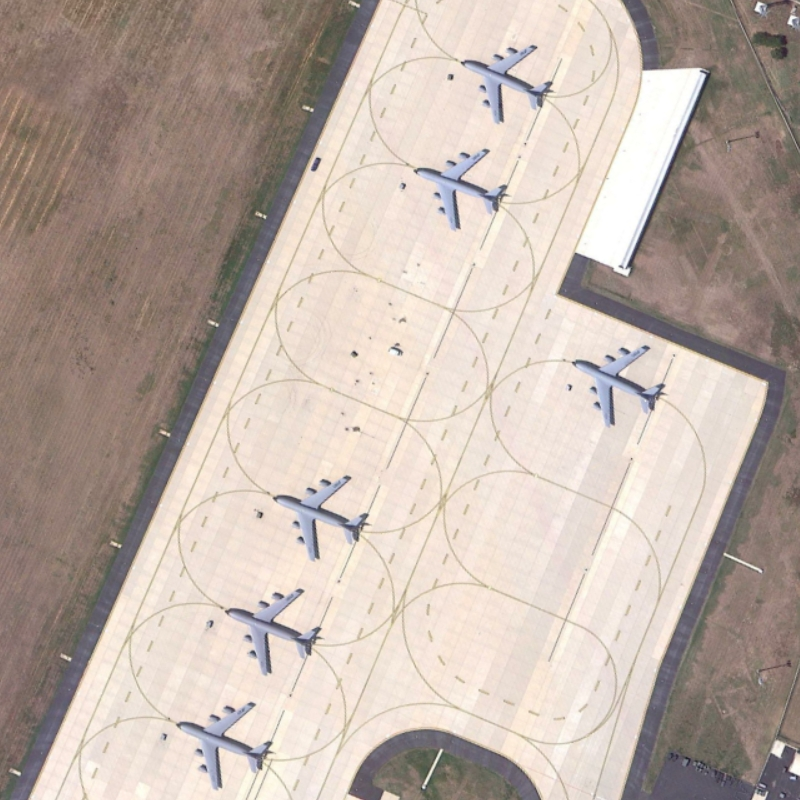A14: (268, 469, 377, 566), (170, 693, 276, 792), (216, 585, 326, 678), (560, 341, 671, 431), (405, 145, 513, 237), (455, 40, 558, 129)
